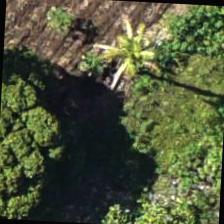Kelapa_Sawit: (79, 1, 174, 96)
